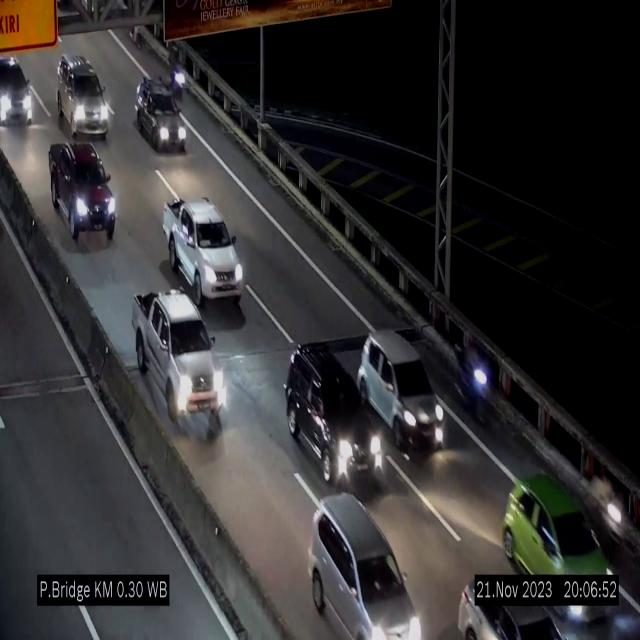Car: (502, 467, 612, 633), (306, 491, 423, 640), (283, 342, 383, 502), (132, 290, 226, 439), (357, 329, 445, 451), (162, 200, 244, 306), (45, 140, 119, 247), (451, 578, 568, 640), (57, 55, 111, 136), (135, 75, 187, 153), (0, 48, 34, 131)
Motorcycle: (458, 333, 494, 431), (592, 484, 628, 569), (165, 42, 187, 104)
